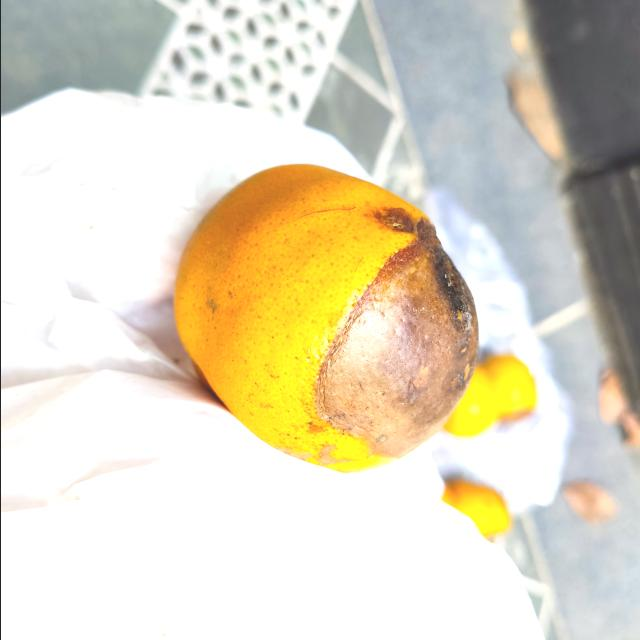orange: (170, 163, 481, 474)
